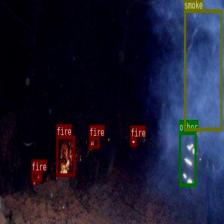fire: (56, 136, 75, 176), (89, 136, 99, 148), (31, 171, 41, 181), (130, 136, 136, 146)
smoke: (184, 9, 222, 130)
